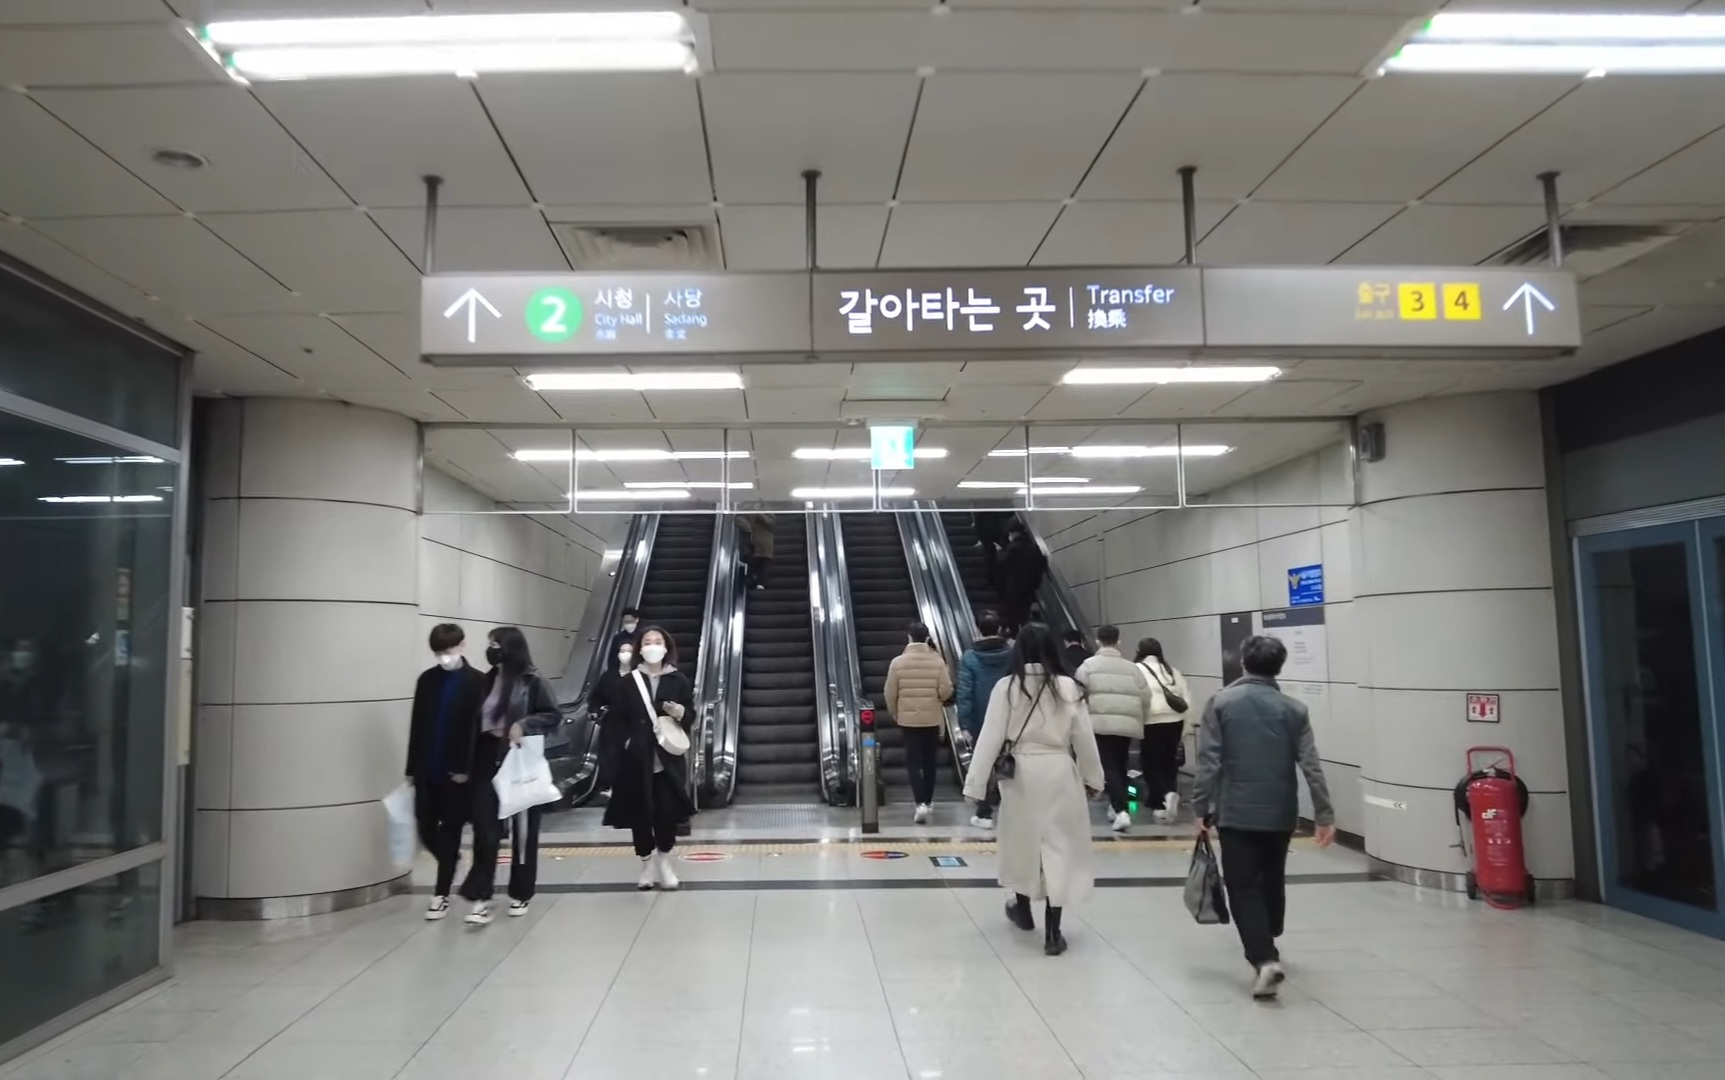signBoard: (403, 224, 1601, 366)
